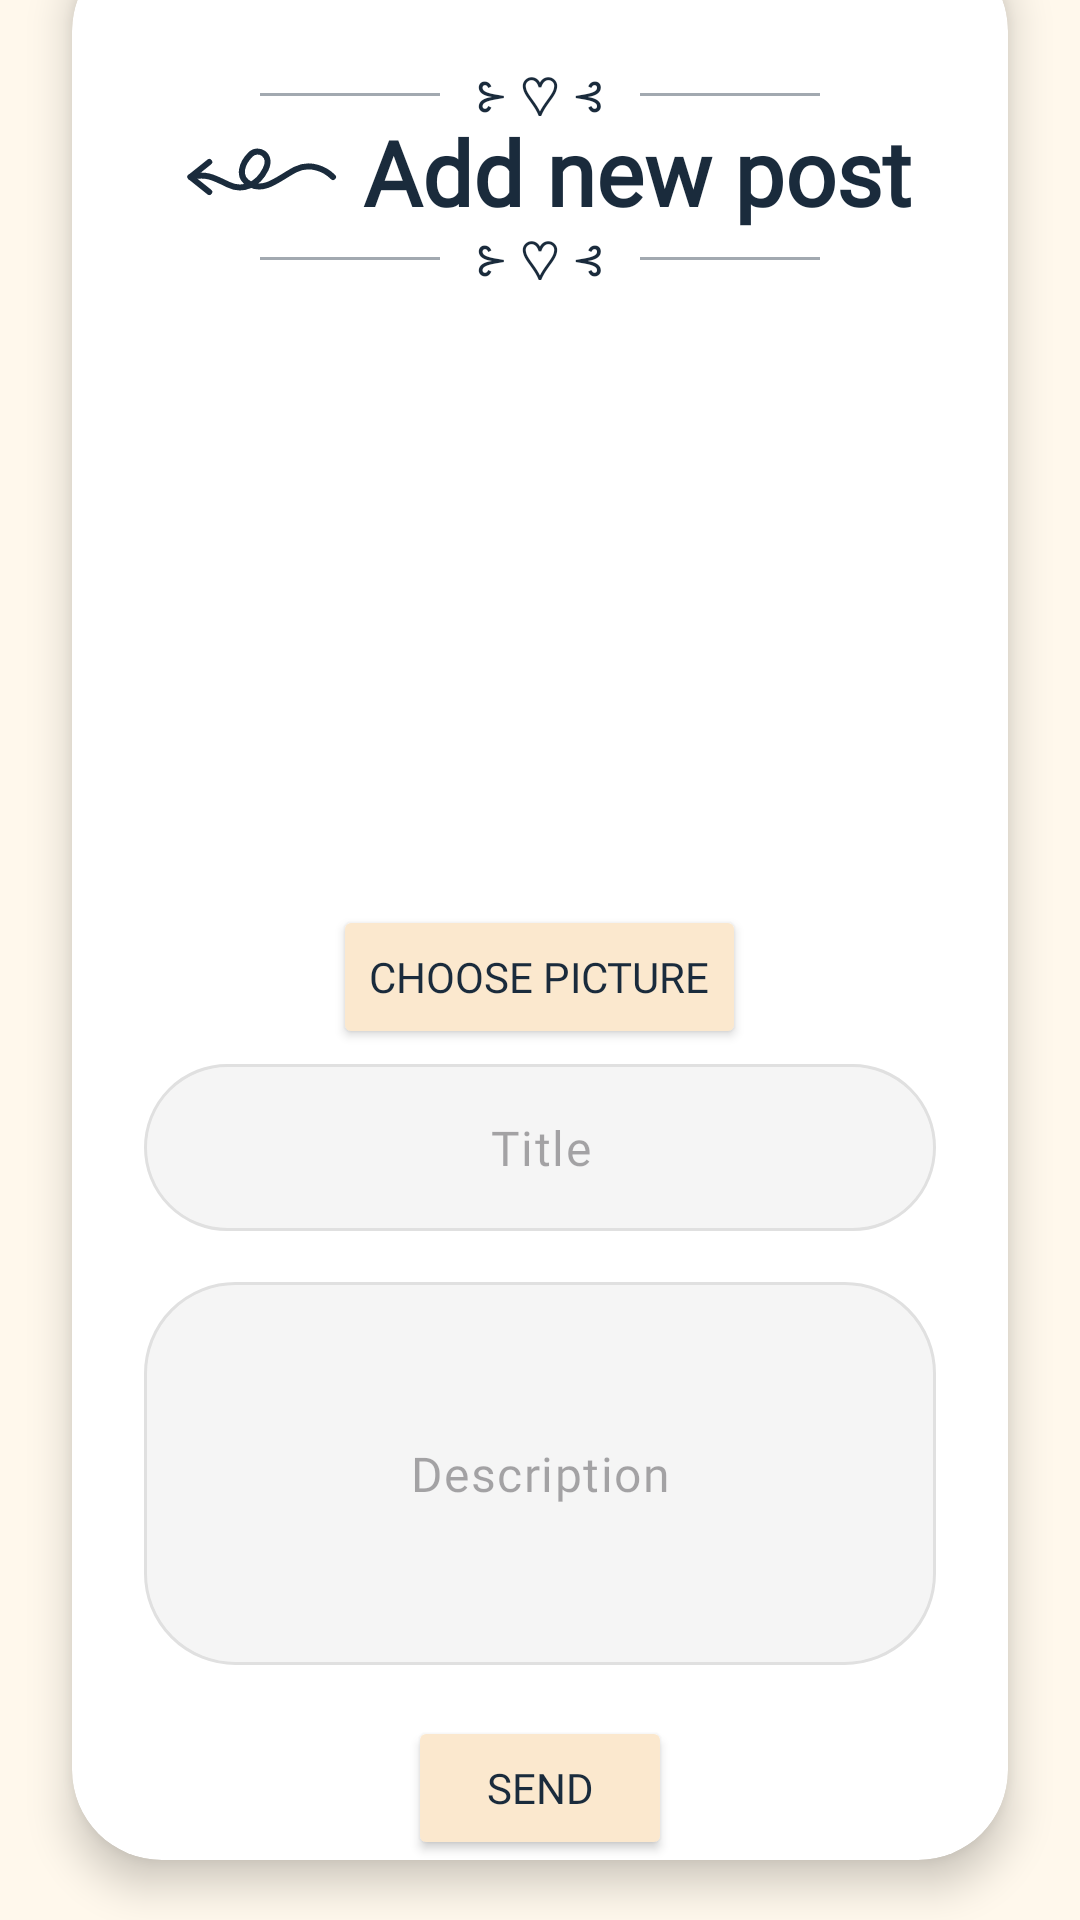

Icon click points for this 1080 x 1920 phone screenshot, format (x,y):
back: (261,171)
